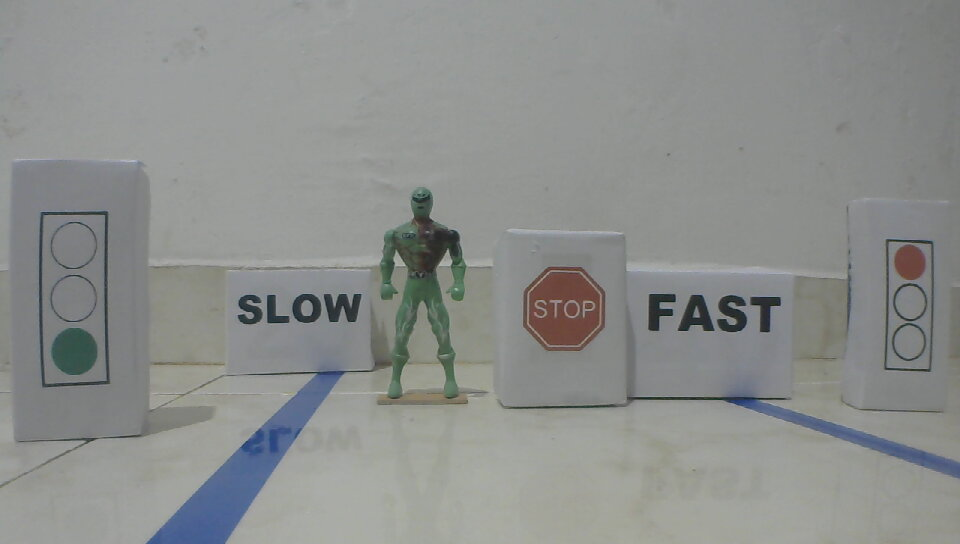Fast: (645, 290, 784, 336)
Green Traffic Light: (37, 208, 115, 391)
Person: (375, 185, 470, 411)
Red Traffic Light: (882, 238, 936, 374)
Slow: (235, 292, 362, 325)
Stop Sign: (521, 266, 608, 353)
